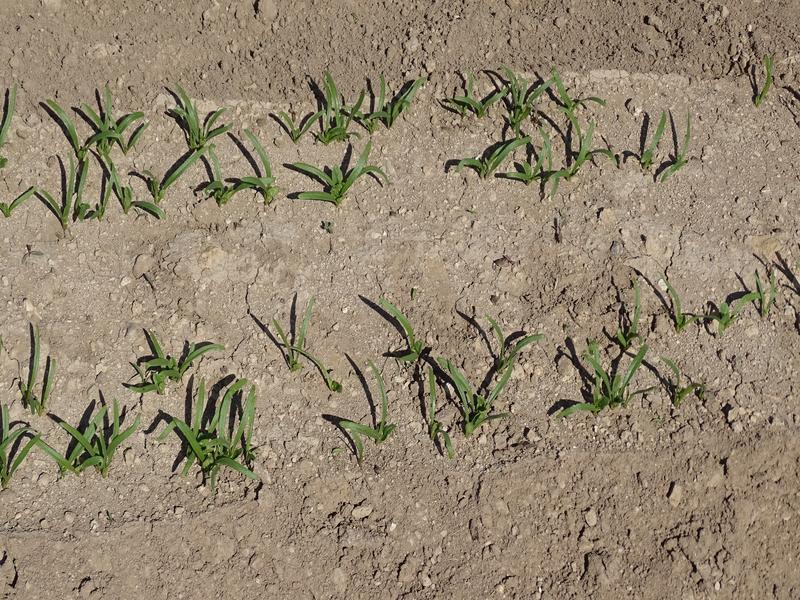Espinaca: (35, 86, 417, 206), (2, 342, 271, 473), (283, 308, 533, 437), (449, 66, 700, 187), (555, 285, 734, 416), (749, 268, 781, 322)
